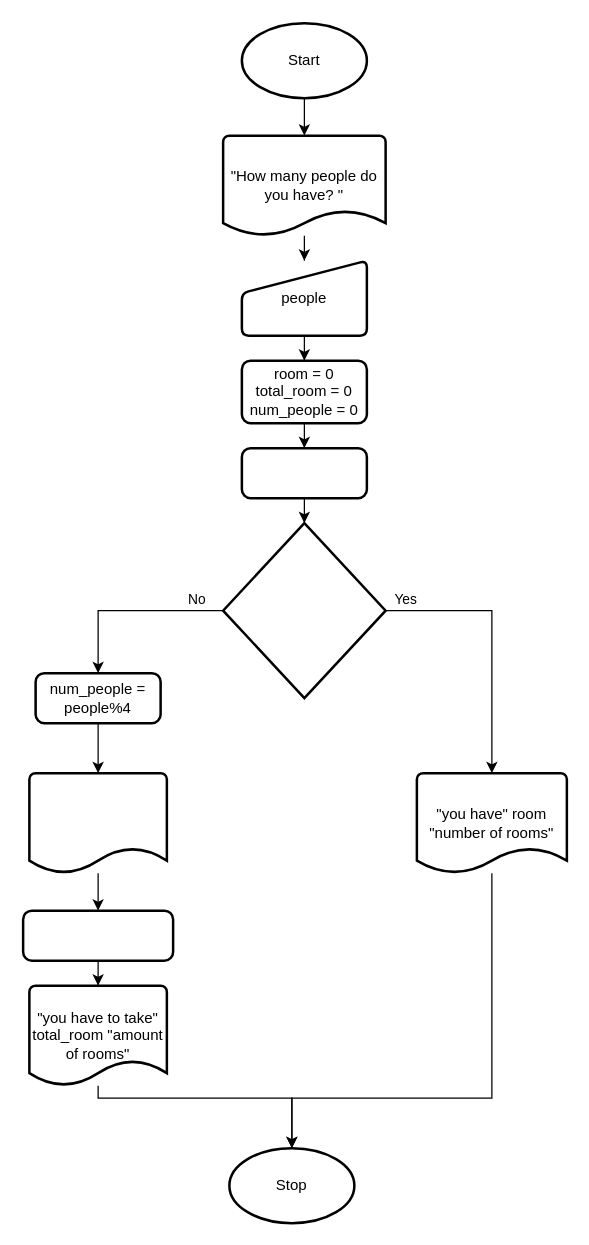
The diagram is 589 pixels wide and 1245 high, and some of its shapes have lost their labels. The shapes that lost their labels are listed below. From the top down, each one's centre as x and y in pixels, then its label:
(304,472): room = people // 4
(303,610): if people%4==0
(98,822): "you have" num people "in an unfull room"
(97,935): total_room = room +1
